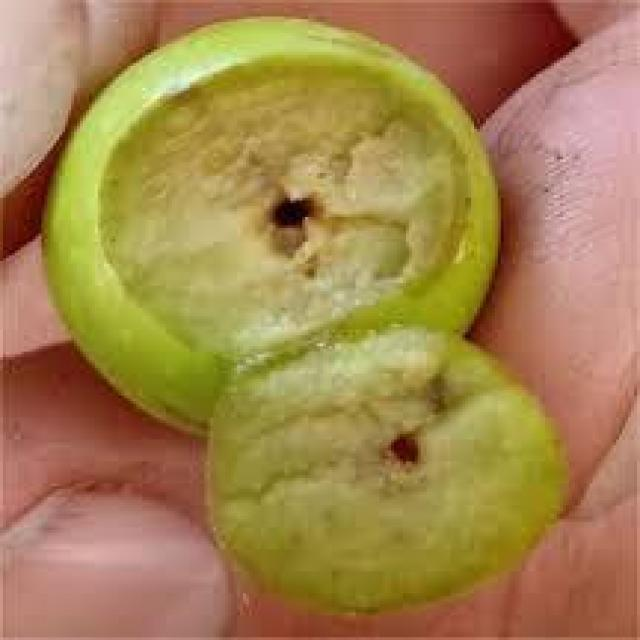Anthracnose: (47, 19, 563, 604)
